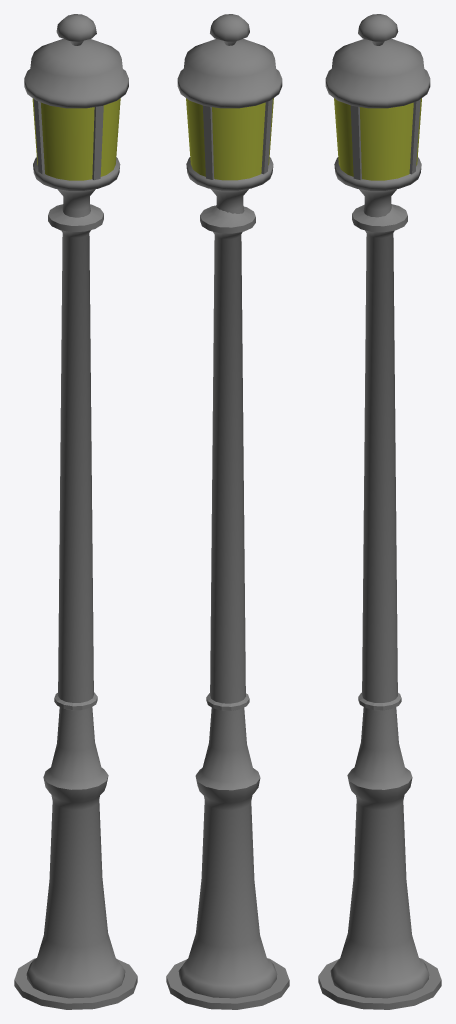
File: SM_lamp_street_01.fbx
3 views of the same model, side by side, from view 1: azimuth 30°, elevation 25°; view 2: azimuth 150°, elevation 25°; view 3: azimuth 330°, elevation 25° (orthographic).
Visible parts, largest first — view 1: Box547; view 2: Box547; view 3: Box547.
Part boxes in pixels (x1,y1,x2,y2): Box547: [14, 14, 137, 1009]; Box547: [166, 14, 289, 1009]; Box547: [318, 14, 441, 1009].
Bounding box in the file's own units: 16.84 × 146 × 16.42.
